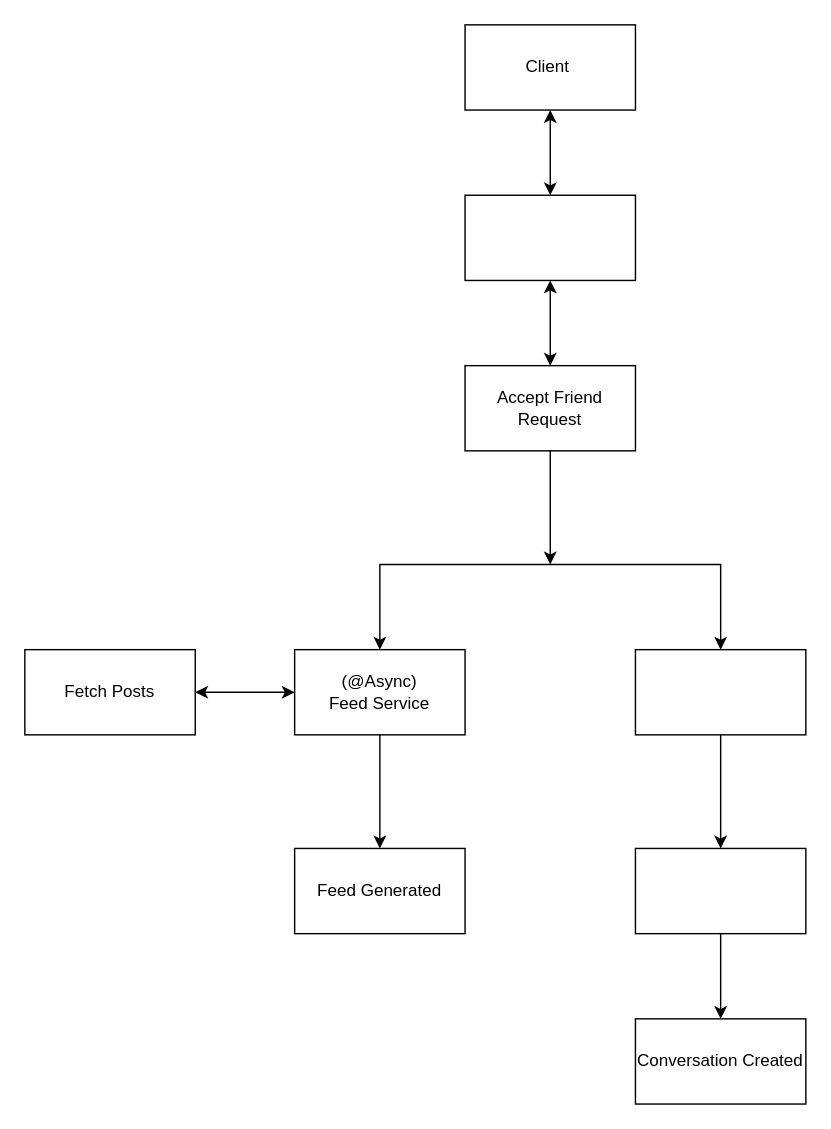
Some shapes in this 831 by 1129 pixel diagram are drawn without their labels. Each missing label, with the box of its shape:
(@Async Chat Service): (634, 648, 806, 735)
Create Conversation: (634, 847, 806, 934)
Interaction Service: (464, 194, 635, 280)
